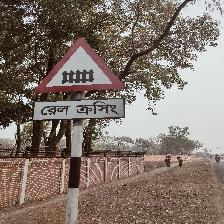Rail-crossing: (31, 37, 127, 124)
